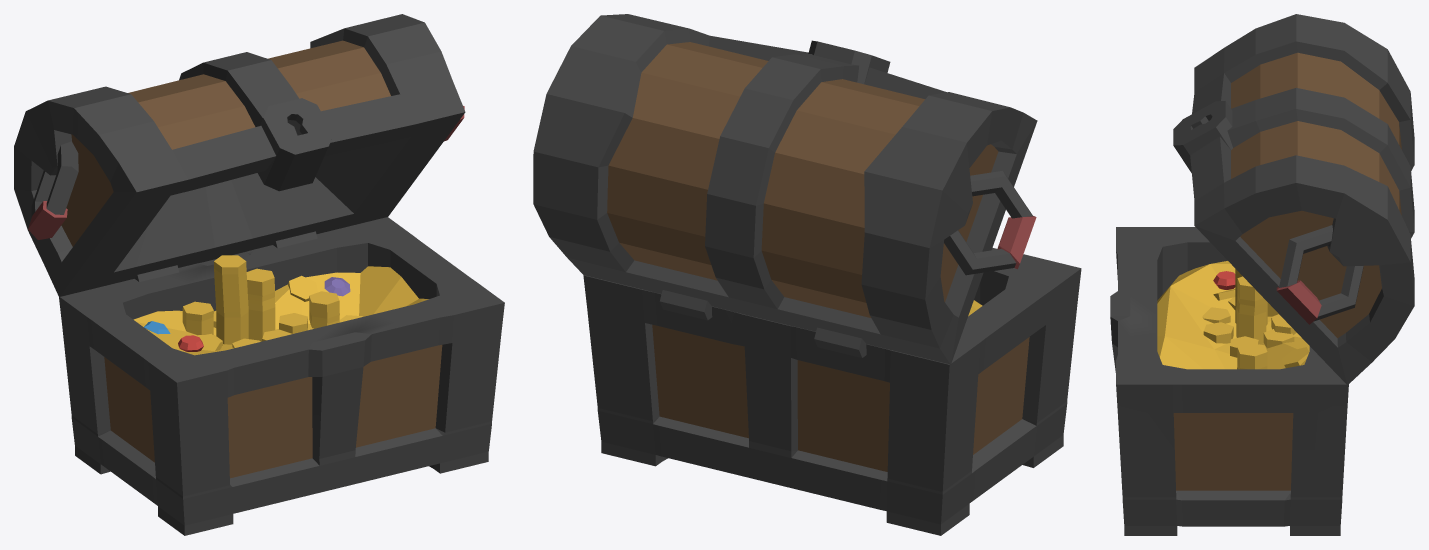
Rendered from Chest.fbx.
3 renders of one model, left to right at view 1: azimuth 30°, elevation 25°; view 2: azimuth 150°, elevation 25°; view 3: azimuth 270°, elevation 25°, orthographic. The views are drawn at different scales.
Visible parts, largest first — view 1: Chest; view 2: Chest; view 3: Chest.
Boxes of the visible parts, x1,y1,x2,y2 form: Chest: (14, 14, 504, 535); Chest: (533, 14, 1081, 535); Chest: (1110, 14, 1414, 535).
Bounding box in the file's own units: 1.83 × 1.53 × 1.16.
